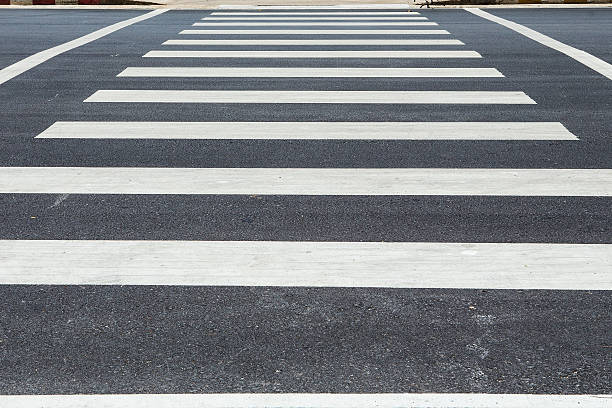zebracross: (155, 15, 485, 371)
